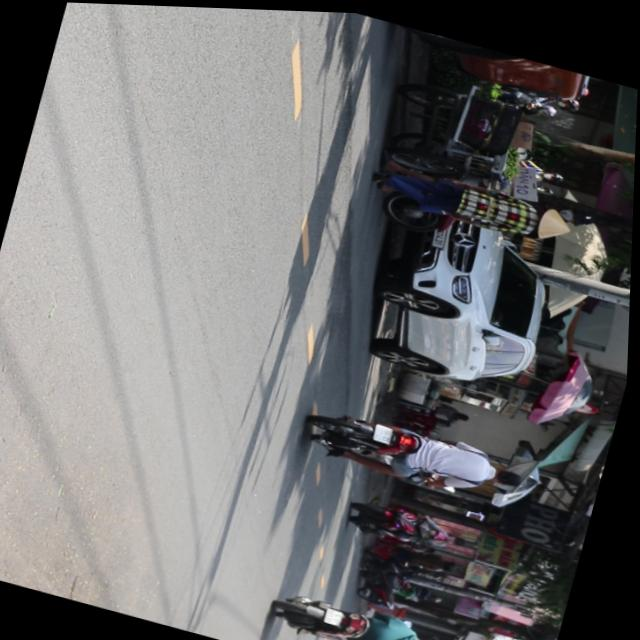helmet: (420, 634, 454, 640)
licenseplate: (301, 396, 535, 506), (271, 580, 459, 640)
motorcyclist: (492, 459, 529, 485)
nohelmet: (375, 419, 396, 441), (328, 606, 348, 623)
